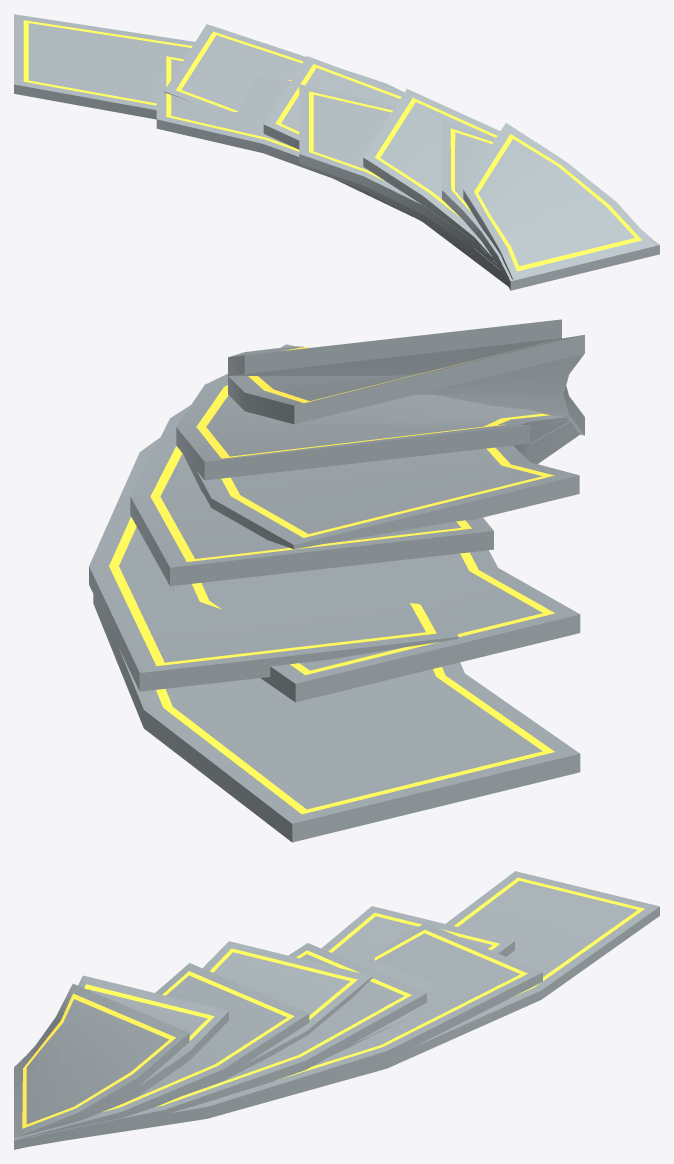
The model's file is SM_PlatformUpwardsBroad.fbx.
3 renders of one model, top to bottom at view 1: azimuth 30°, elevation 25°; view 2: azimuth 150°, elevation 25°; view 3: azimuth 270°, elevation 25°, orthographic. The views are drawn at different scales.
Visible parts, largest first — view 1: SM_PlatformUpwards45Degree_Broad1, SM_PlatformUpwards60Degree_Broad4, SM_PlatformUpwards60Degree_Broad3, SM_PlatformUpwards60Degree_Broad2, SM_PlatformUpwards45Degree_Broad2, SM_PlatformUpwards45Degree_Broad4, SM_PlatformUpwards45Degree_Broad3, SM_PlatformUpwards60Degree_Broad1; view 2: SM_PlatformUpwards60Degree_Broad4, SM_PlatformUpwards60Degree_Broad3, SM_PlatformUpwards45Degree_Broad4, SM_PlatformUpwards60Degree_Broad2, SM_PlatformUpwards45Degree_Broad2, SM_PlatformUpwards45Degree_Broad3, SM_PlatformUpwards60Degree_Broad1, SM_PlatformUpwards45Degree_Broad1; view 3: SM_PlatformUpwards60Degree_Broad4, SM_PlatformUpwards45Degree_Broad1, SM_PlatformUpwards45Degree_Broad4, SM_PlatformUpwards45Degree_Broad3, SM_PlatformUpwards45Degree_Broad2, SM_PlatformUpwards60Degree_Broad2, SM_PlatformUpwards60Degree_Broad3, SM_PlatformUpwards60Degree_Broad1.
Boxes of the visible parts, <box> form: SM_PlatformUpwards45Degree_Broad1: <box>463,123,655,280</box>; SM_PlatformUpwards60Degree_Broad4: <box>14,14,586,289</box>; SM_PlatformUpwards60Degree_Broad3: <box>156,50,593,289</box>; SM_PlatformUpwards60Degree_Broad2: <box>299,84,499,269</box>; SM_PlatformUpwards45Degree_Broad2: <box>363,89,658,289</box>; SM_PlatformUpwards45Degree_Broad4: <box>164,24,658,284</box>; SM_PlatformUpwards45Degree_Broad3: <box>263,56,659,289</box>; SM_PlatformUpwards60Degree_Broad1: <box>442,119,643,290</box>; SM_PlatformUpwards60Degree_Broad4: <box>93,436,580,842</box>; SM_PlatformUpwards60Degree_Broad3: <box>172,421,580,702</box>; SM_PlatformUpwards45Degree_Broad4: <box>89,437,458,691</box>; SM_PlatformUpwards60Degree_Broad2: <box>183,419,579,549</box>; SM_PlatformUpwards45Degree_Broad2: <box>176,344,567,480</box>; SM_PlatformUpwards45Degree_Broad3: <box>130,344,493,586</box>; SM_PlatformUpwards60Degree_Broad1: <box>228,335,584,435</box>; SM_PlatformUpwards45Degree_Broad1: <box>228,319,561,375</box>; SM_PlatformUpwards60Degree_Broad4: <box>69,871,659,1139</box>; SM_PlatformUpwards45Degree_Broad1: <box>14,983,189,1138</box>; SM_PlatformUpwards45Degree_Broad4: <box>37,923,542,1145</box>; SM_PlatformUpwards45Degree_Broad3: <box>14,943,426,1149</box>; SM_PlatformUpwards45Degree_Broad2: <box>14,963,309,1139</box>; SM_PlatformUpwards60Degree_Broad2: <box>185,941,372,1094</box>; SM_PlatformUpwards60Degree_Broad3: <box>321,906,514,1056</box>; SM_PlatformUpwards60Degree_Broad1: <box>14,975,228,1134</box>.
Size of the model in its own units: 5.56 by 1.12 by 7.81.
